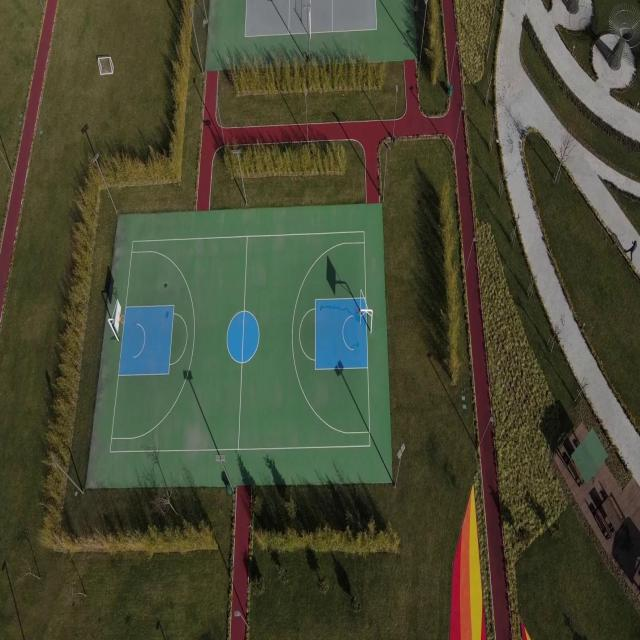p3rson: (624, 239, 637, 261)
